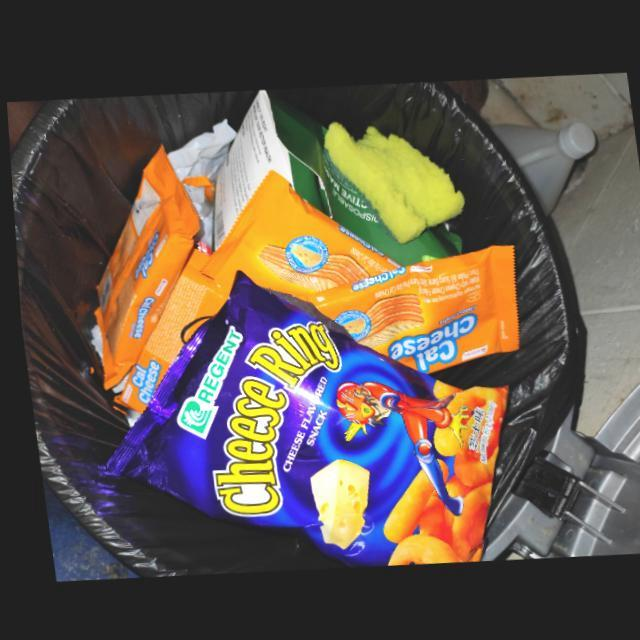cardboard: (209, 89, 459, 264)
food_wrapper: (93, 269, 503, 567), (291, 243, 516, 372), (89, 143, 197, 390), (197, 168, 398, 297), (108, 248, 222, 413)
